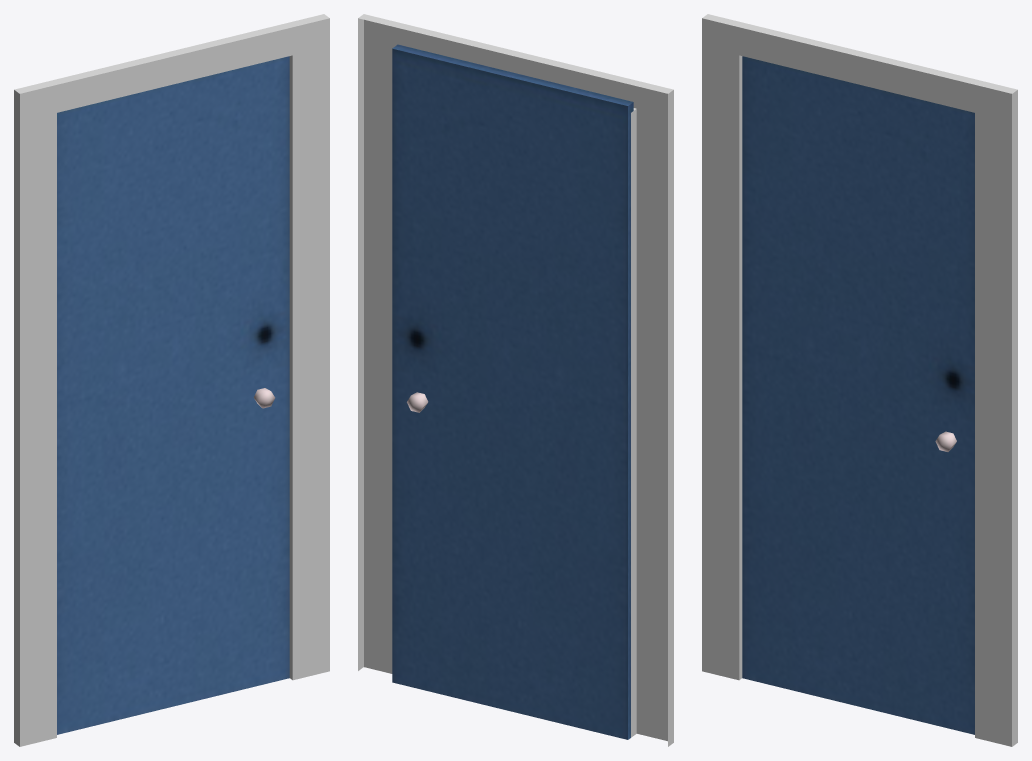
File: MOD_Door.fbx
3 views of the same model, side by side, from view 1: azimuth 30°, elevation 25°; view 2: azimuth 150°, elevation 25°; view 3: azimuth 330°, elevation 25° (orthographic).
Visible parts, largest first — view 1: MOD_Puerta_Baked.001, MOD_Puerta_Marco_Baked; view 2: MOD_Puerta_Baked.001, MOD_Puerta_Marco_Baked; view 3: MOD_Puerta_Baked.001, MOD_Puerta_Marco_Baked.
Part boxes in pixels (x1,y1,x2,y2): MOD_Puerta_Baked.001: [57, 56, 289, 734]; MOD_Puerta_Marco_Baked: [14, 14, 329, 746]; MOD_Puerta_Baked.001: [392, 44, 633, 739]; MOD_Puerta_Marco_Baked: [358, 14, 673, 746]; MOD_Puerta_Baked.001: [742, 56, 974, 734]; MOD_Puerta_Marco_Baked: [702, 14, 1017, 746].
Size of the model in its own units: 120 by 242 by 13.86.
